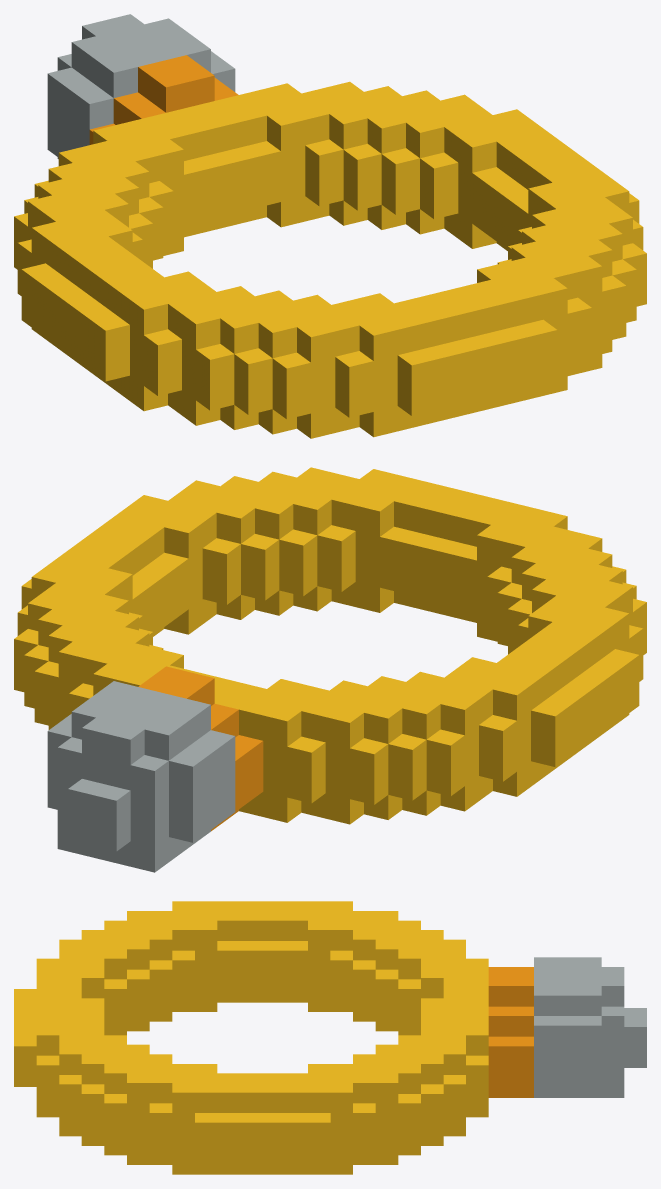
File: item_RING_AGATE.glb
The picture shows the model from 3 angles, top to bottom: view 1: azimuth 30°, elevation 25°; view 2: azimuth 150°, elevation 25°; view 3: azimuth 270°, elevation 25°; orthographic projection. The views are drawn at different scales.
Parts seen in each view (by area): view 1: item_RING_AGATE; view 2: item_RING_AGATE; view 3: item_RING_AGATE.
Boxes of the visible parts, box(x1,y1,x2,y2) form: item_RING_AGATE: box(14, 14, 646, 438); item_RING_AGATE: box(14, 467, 646, 872); item_RING_AGATE: box(14, 901, 646, 1174).
Size of the model in its own units: 0.25 by 0.0568 by 0.3182.
1 material, 1 textured.
